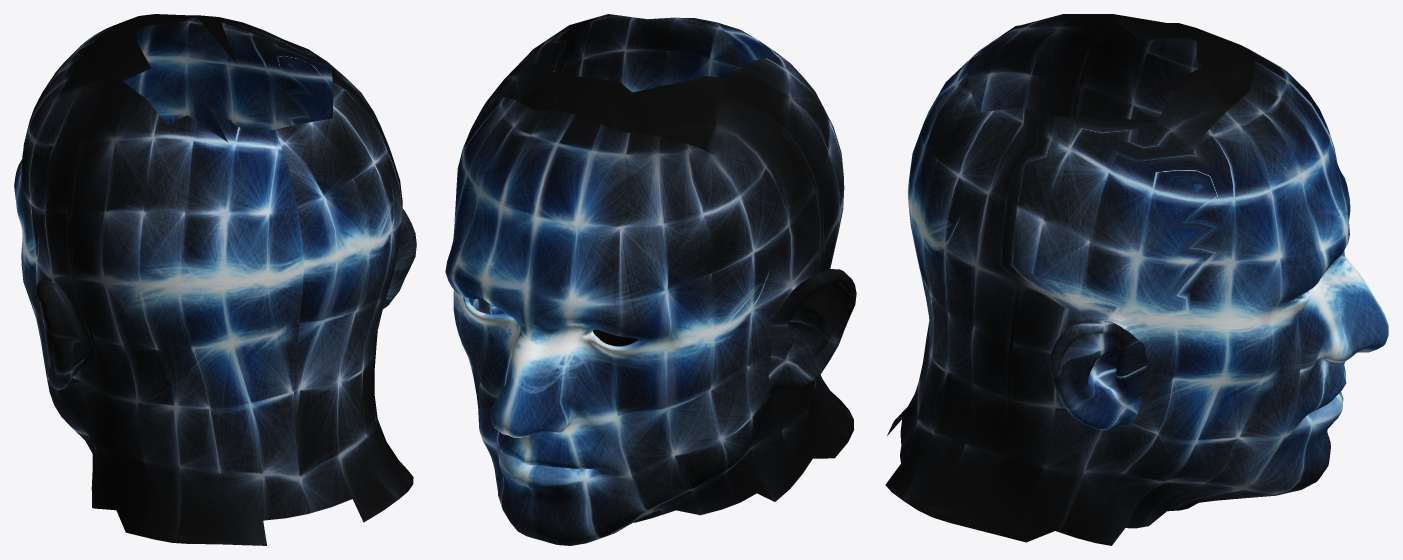
The model's file is FutureFace.fbx.
The picture shows the model from 3 angles, left to right: view 1: azimuth 30°, elevation 25°; view 2: azimuth 150°, elevation 25°; view 3: azimuth 270°, elevation 25°; orthographic projection. The views are drawn at different scales.
Visible parts, largest first — view 1: challenger_eyes_refl; view 2: challenger_eyes_refl; view 3: challenger_eyes_refl.
Part boxes in pixels (x1,y1,x2,y2): challenger_eyes_refl: [14, 14, 416, 545]; challenger_eyes_refl: [445, 14, 856, 545]; challenger_eyes_refl: [885, 14, 1388, 545].
Size of the model in its own units: 6.47 by 7.32 by 7.46.
1 material, 1 textured.
